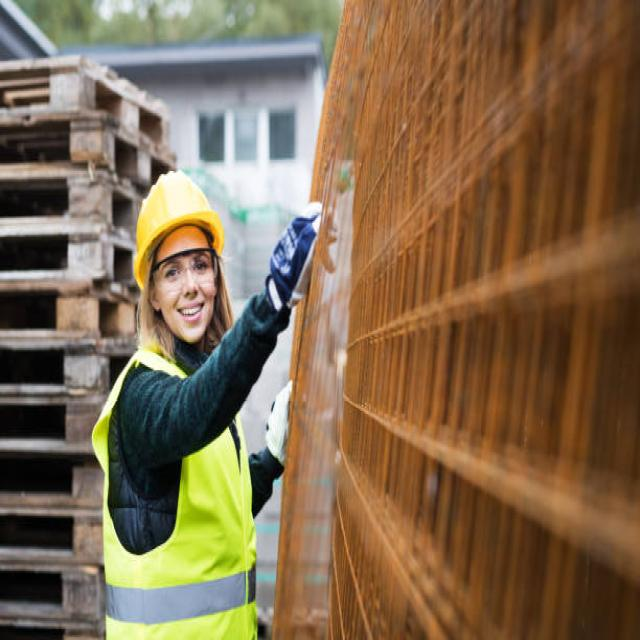gloves: (269, 201, 324, 315), (266, 380, 292, 462)
